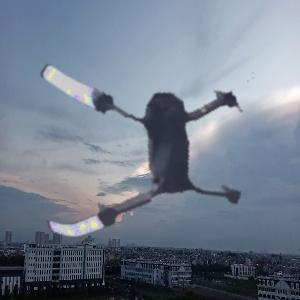drone: (12, 8, 278, 274)
